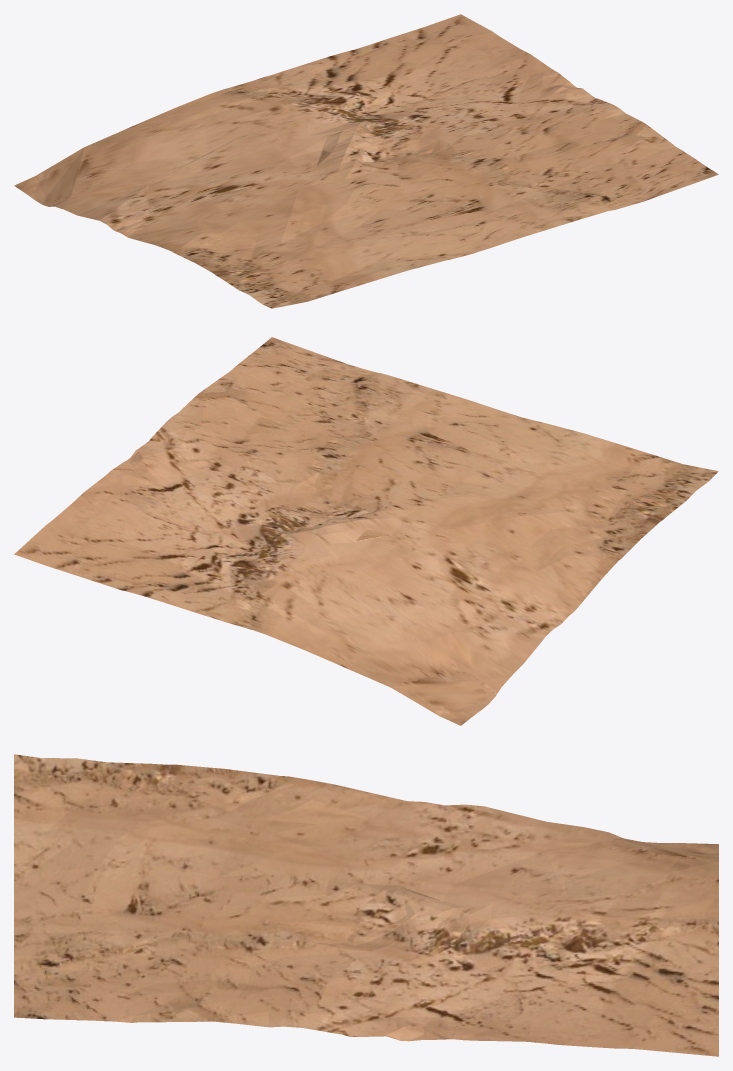
3 renders of one model, top to bottom at view 1: azimuth 30°, elevation 25°; view 2: azimuth 150°, elevation 25°; view 3: azimuth 270°, elevation 25°, orthographic. The views are drawn at different scales.
Size of the model in its own units: 1.04 by 0.2033 by 1.04.
Materials: 2 (2 with a texture image).
